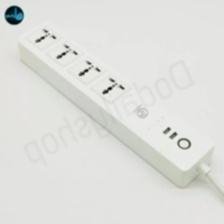three_eye_plug: (12, 19, 217, 191)
